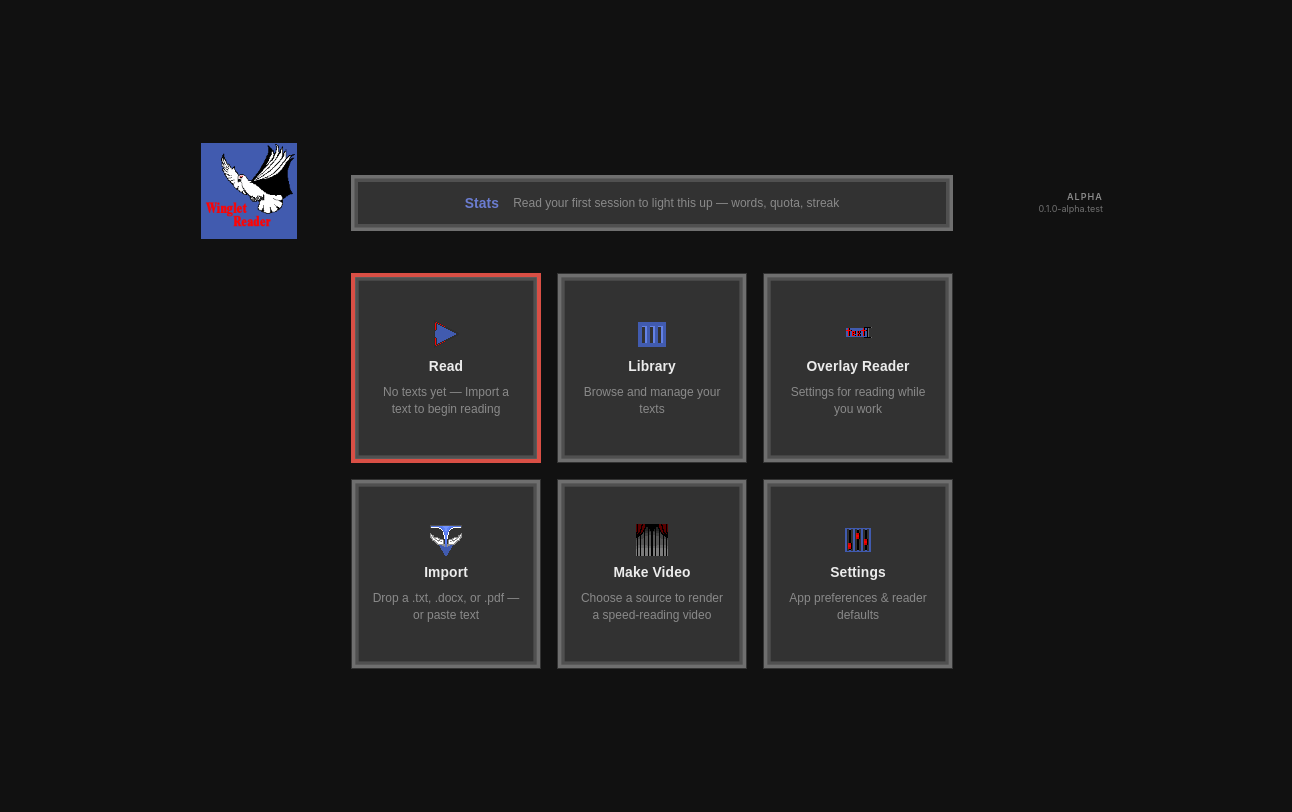
it: Read while working onboarding › keeps the Overlay Reader subview visible when start reports unsupported status
The width and height of the screenshot is (1292, 812).
// Navigate to the Settings subview.
Click the button "Overlay Reader" at [858, 368], box left=763, top=273, right=953, bottom=463
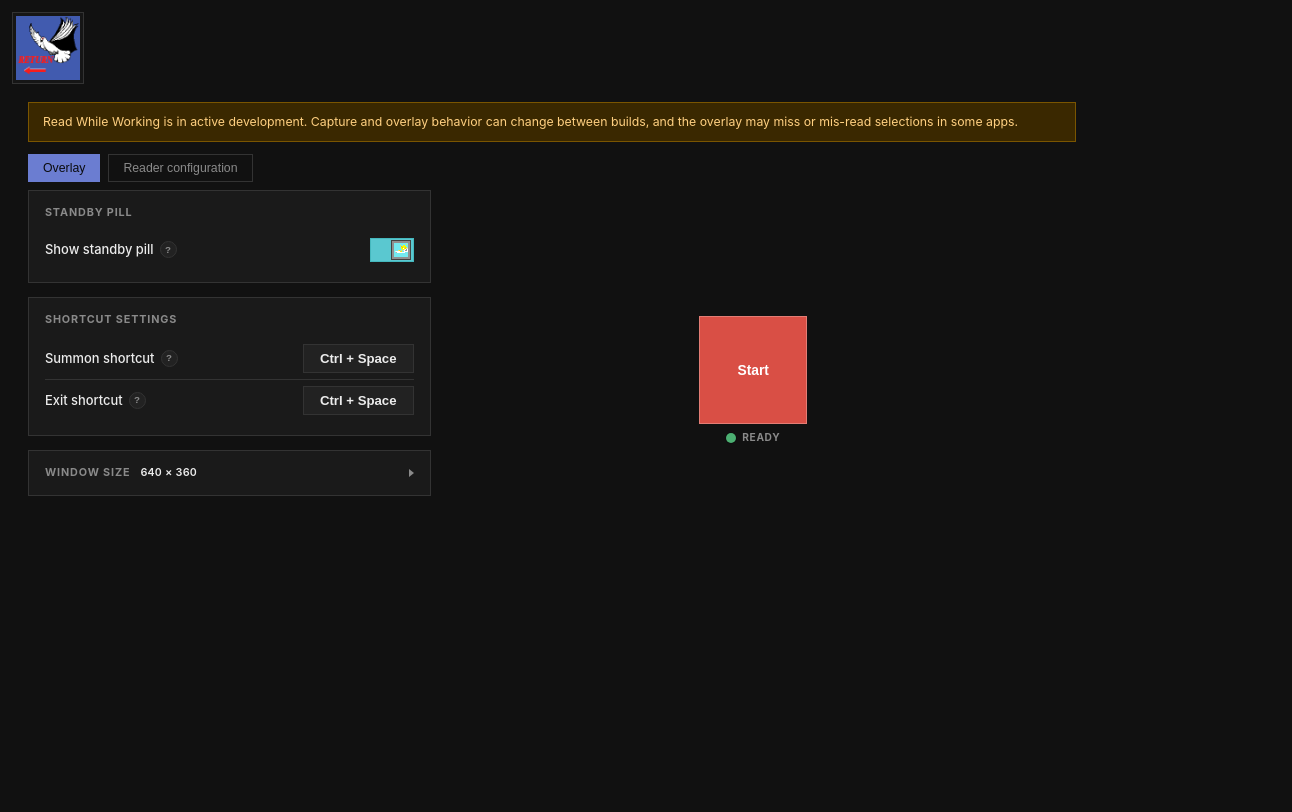
Expected: the element named "Overlay Reader settings" is shown, left=28, top=102, right=1076, bottom=496
Click the button with aria-label "Start Overlay Reader" at [753, 370], box left=699, top=316, right=807, bottom=424
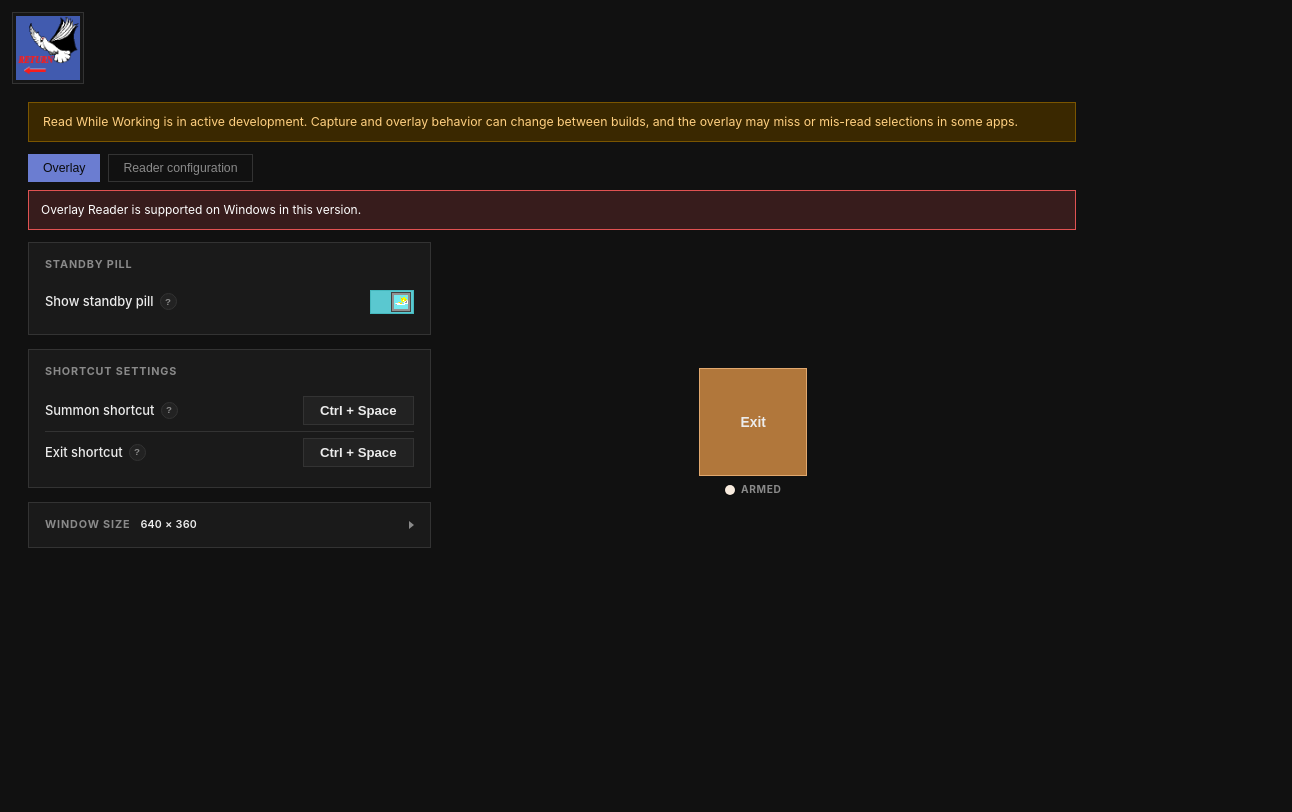
Expected: the element named "Overlay Reader settings" is shown, left=28, top=102, right=1076, bottom=548
Expected: the message "Overlay Reader is supported on Windows in this version." is shown, left=28, top=190, right=1076, bottom=230
Expected: the message with class "rww-readiness-status" reads "Overlay Reader is supported on Windows in this version.", left=41, top=202, right=361, bottom=217
